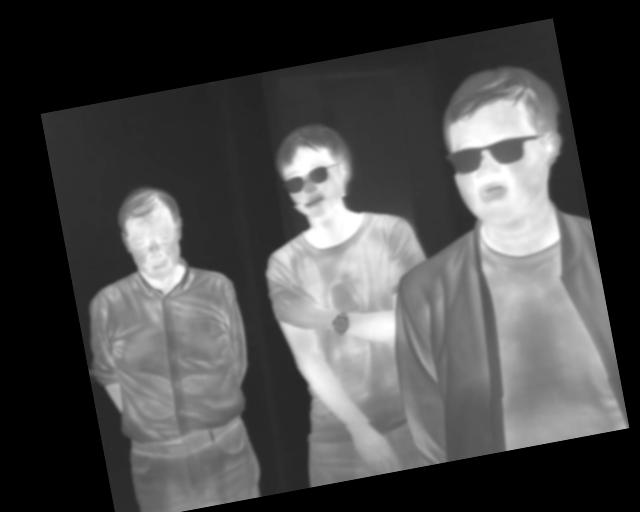face: (428, 55, 577, 236), (268, 115, 361, 225), (112, 181, 192, 284)
